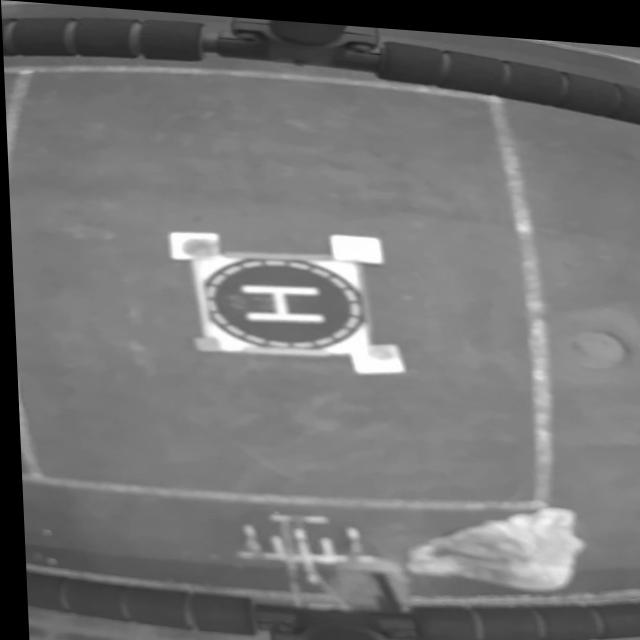Helipad: (235, 279, 325, 320)
